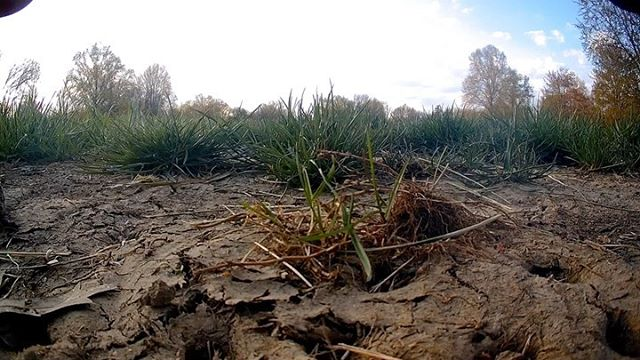dirt: (1, 174, 626, 360)
sky: (1, 1, 581, 95)
vegetation: (1, 54, 640, 176)
